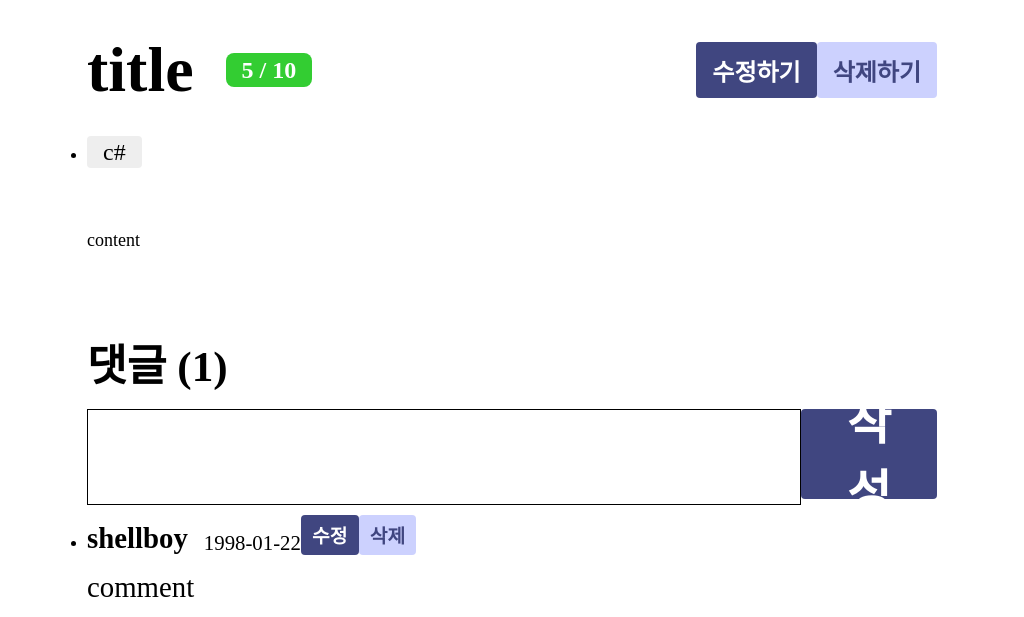
Test case: <Post> 페이지 › comment › modify 댓글
Click the button "수정".
click(330, 535)  # box [301,515,359,555]
(page scrolled)
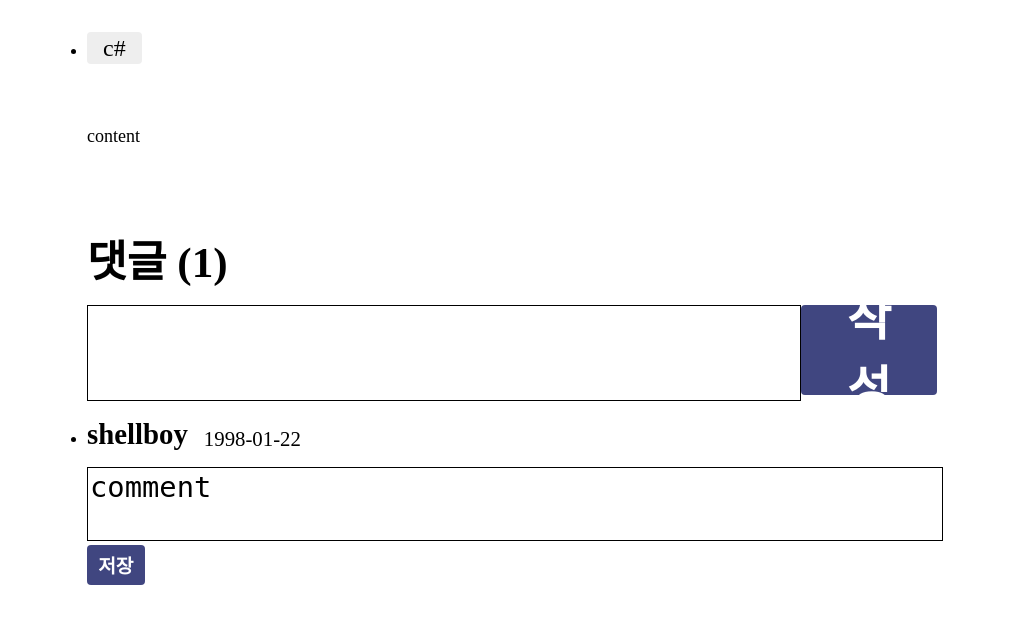
Click the button "저장".
click(116, 565)  # box [87,545,145,585]
(page scrolled)
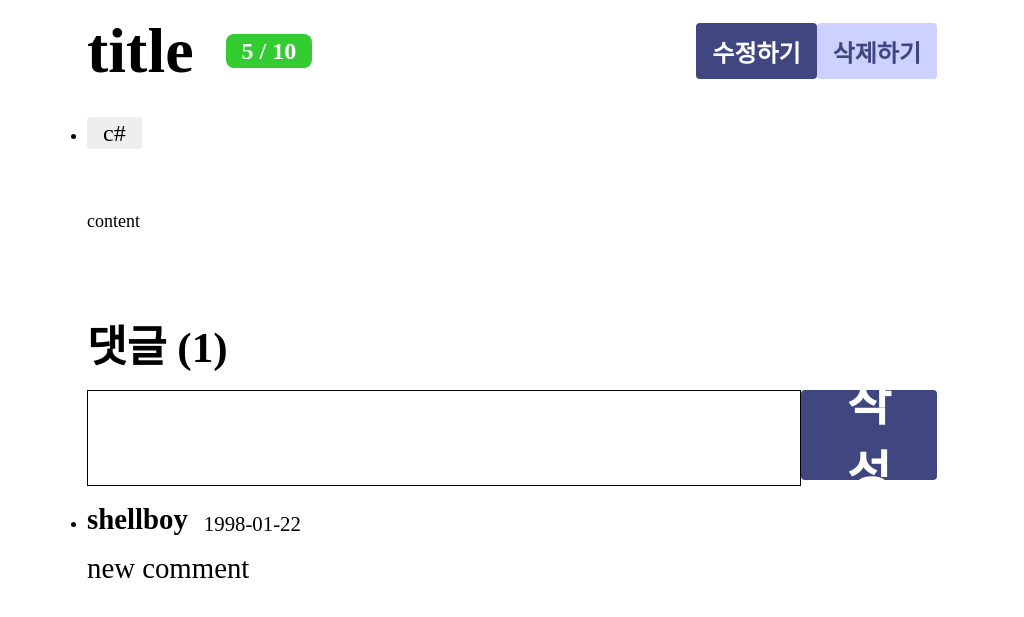
Check: the text "new comment" is shown, box [87,552,249,584]
